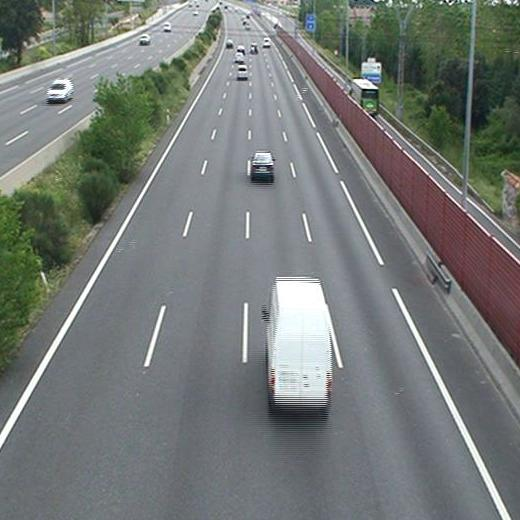car: (251, 153, 274, 175), (237, 66, 249, 78), (234, 53, 245, 61)
van: (266, 278, 330, 410)
